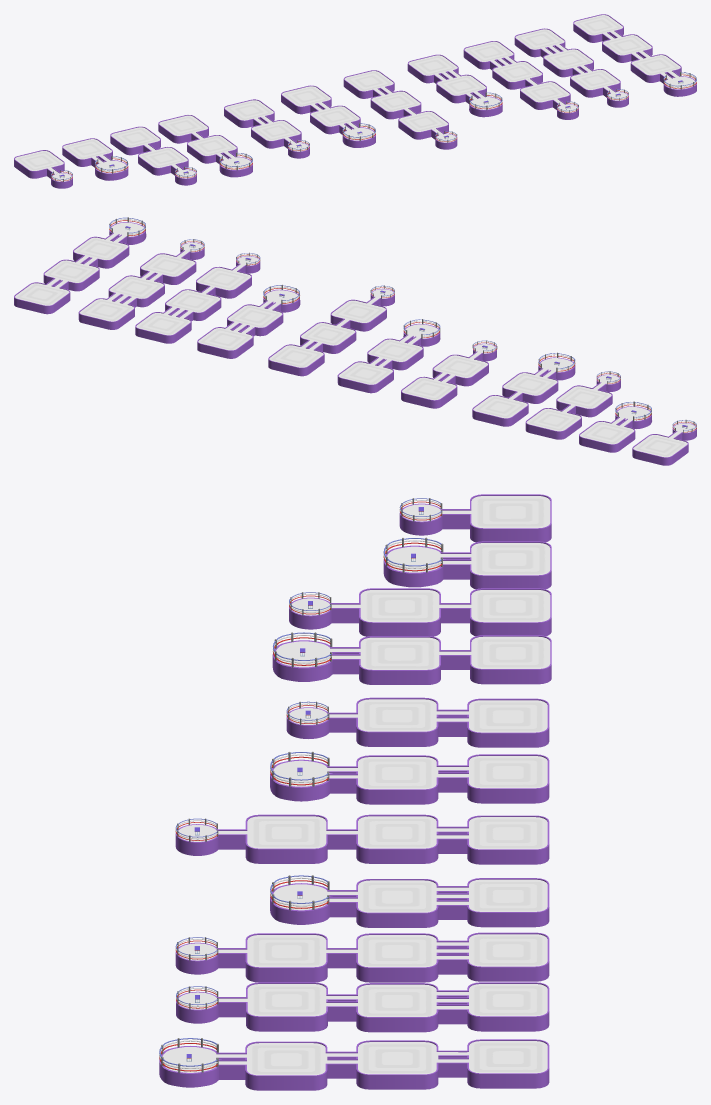
Rendered from Ragdoll_Slap_LVLs.fbx.
The picture shows the model from 3 angles, top to bottom: view 1: azimuth 30°, elevation 25°; view 2: azimuth 150°, elevation 25°; view 3: azimuth 270°, elevation 25°; orthographic projection. The views are drawn at different scales.
Visible parts, largest first — view 1: Cube.187, Cube.226, Cube.220, Cube.216, Cube.201, Cube.305, Cube.205, Cube.211, Cube.236, Cube.294, Cube.180, Cube.191 (+44 smaller); view 2: Cube.187, Cube.226, Cube.220, Cube.236, Cube.201, Cube.222, Cube.231, Cube.195, Cube.229, Cube.211, Cube.191, Cube.305 (+37 smaller); view 3: Cube.187, Cube.220, Cube.231, Cube.236, Cube.201, Cube.191, Cube.215, Cube.226, Cube.222, Cube.195, Cube.229, Cube.211 (+44 smaller).
Part boxes in pixels (x1=…): Cube.187: x1=139, y1=147, x2=188, y2=167; Cube.226: x1=544, y1=49, x2=592, y2=69; Cube.220: x1=437, y1=75, x2=486, y2=95; Cube.216: x1=408, y1=55, x2=457, y2=75; Cube.201: x1=310, y1=106, x2=359, y2=126; Cube.305: x1=515, y1=29, x2=564, y2=49; Cube.205: x1=282, y1=86, x2=330, y2=106; Cube.211: x1=371, y1=91, x2=420, y2=111; Cube.236: x1=603, y1=35, x2=651, y2=55; Cube.294: x1=464, y1=41, x2=513, y2=61; Cube.180: x1=63, y1=139, x2=111, y2=159; Cube.191: x1=187, y1=135, x2=236, y2=155; Cube.187: x1=556, y1=385, x2=611, y2=408; Cube.226: x1=109, y1=276, x2=163, y2=298; Cube.220: x1=228, y1=305, x2=282, y2=327; Cube.236: x1=44, y1=260, x2=98, y2=282; Cube.201: x1=368, y1=339, x2=422, y2=361; Cube.222: x1=166, y1=290, x2=220, y2=312; Cube.231: x1=74, y1=237, x2=128, y2=259; Cube.195: x1=433, y1=355, x2=487, y2=377; Cube.229: x1=141, y1=254, x2=195, y2=276; Cube.211: x1=301, y1=323, x2=355, y2=345; Cube.191: x1=503, y1=373, x2=557, y2=395; Cube.305: x1=79, y1=299, x2=133, y2=321; Cube.187: x1=359, y1=590, x2=440, y2=623; Cube.220: x1=356, y1=880, x2=438, y2=912; Cube.231: x1=245, y1=1043, x2=327, y2=1075; Cube.236: x1=356, y1=1042, x2=438, y2=1074; Cube.201: x1=356, y1=757, x2=438, y2=789; Cube.191: x1=359, y1=637, x2=440, y2=669; Cube.215: x1=245, y1=816, x2=327, y2=848; Cube.226: x1=356, y1=984, x2=438, y2=1016; Cube.222: x1=356, y1=935, x2=438, y2=967; Cube.195: x1=356, y1=699, x2=438, y2=731; Cube.229: x1=246, y1=984, x2=327, y2=1016; Cube.211: x1=356, y1=816, x2=438, y2=848.
Bounding box in the file's own units: 71380 × 1298 × 20354.
